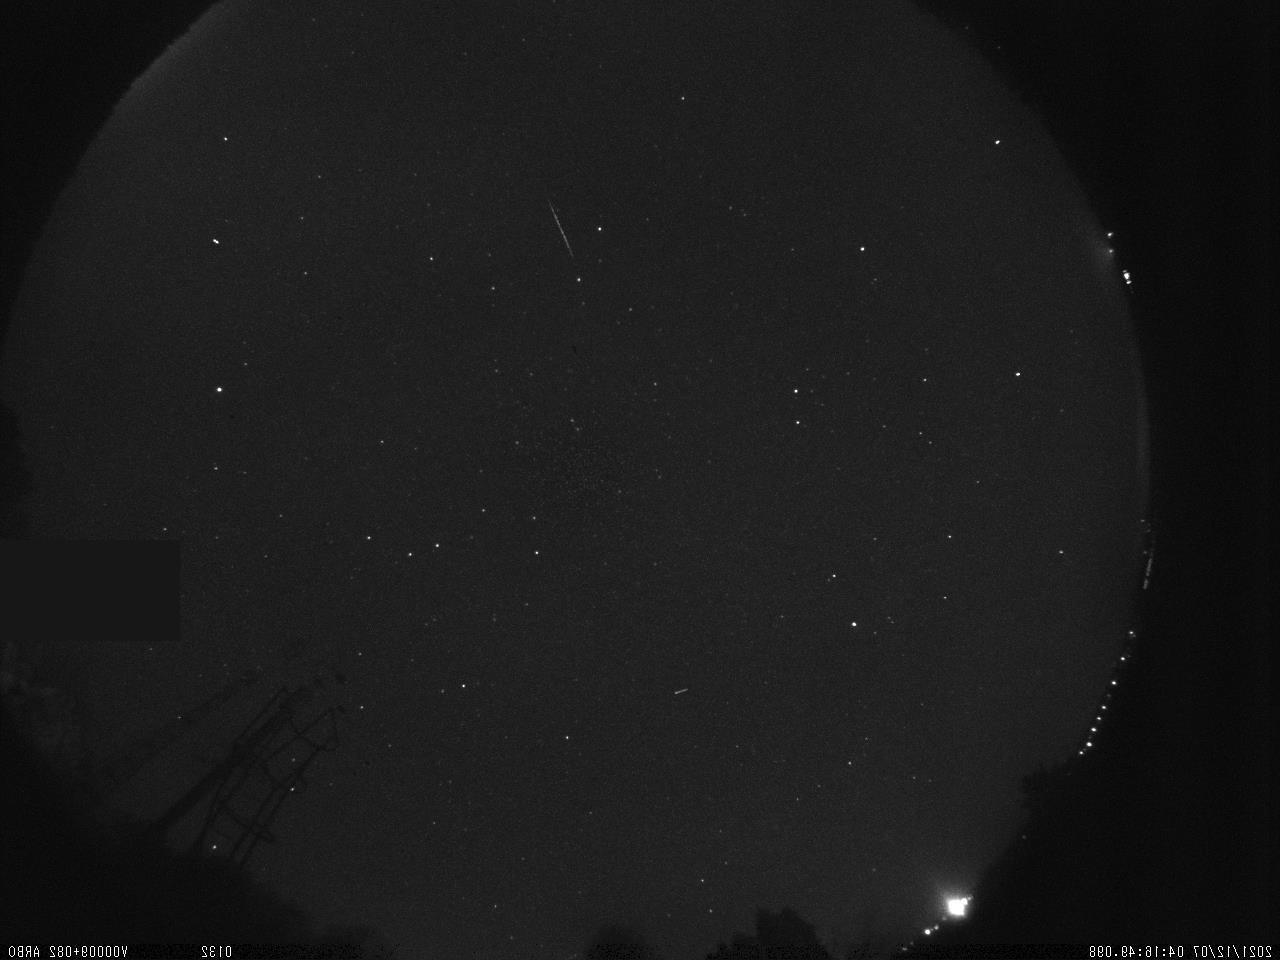meteor: (595, 673, 708, 704)
